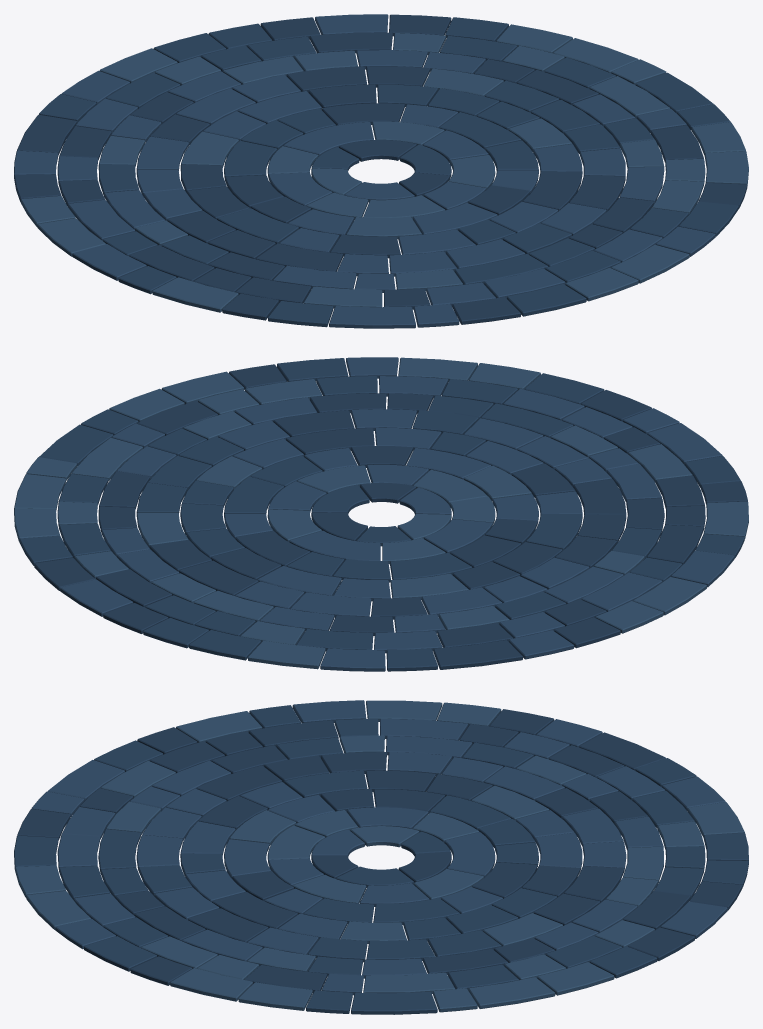
File: FB_Floor.glb
The picture shows the model from 3 angles, top to bottom: view 1: azimuth 30°, elevation 25°; view 2: azimuth 150°, elevation 25°; view 3: azimuth 270°, elevation 25°; orthographic projection.
Visible parts, largest first — view 1: Tile_7_22, Tile_7_19, Tile_1_1, Tile_3_15, Tile_6_29, Tile_7_12, Tile_7_27, Tile_7_34, Tile_6_13, Tile_7_25, Tile_2_0, Tile_6_15 (+148 smaller); view 2: Tile_7_12, Tile_1_1, Tile_3_15, Tile_7_22, Tile_6_29, Tile_7_9, Tile_7_34, Tile_6_13, Tile_2_0, Tile_6_15, Tile_5_18, Tile_7_16 (+148 smaller); view 3: Tile_7_34, Tile_7_1, Tile_1_1, Tile_7_31, Tile_3_15, Tile_6_29, Tile_7_12, Tile_7_22, Tile_6_13, Tile_6_15, Tile_4_12, Tile_2_0 (+148 smaller).
Part boxes in pixels (left/top/right/bottom): Tile_7_22: left=329, top=306, right=415, bottom=328; Tile_7_19: left=152, top=277, right=238, bottom=312; Tile_1_1: left=283, top=122, right=373, bottom=156; Tile_3_15: left=522, top=171, right=582, bottom=211; Tile_6_29: left=589, top=76, right=670, bottom=118; Tile_7_12: left=17, top=114, right=76, bottom=155; Tile_7_27: left=611, top=245, right=689, bottom=283; Tile_7_34: left=635, top=72, right=713, bottom=113; Tile_6_13: left=68, top=200, right=135, bottom=240; Tile_7_25: left=507, top=284, right=586, bottom=316; Tile_2_0: left=439, top=112, right=521, bottom=149; Tile_6_15: left=129, top=245, right=214, bottom=281; Tile_7_12: left=433, top=640, right=522, bottom=669; Tile_1_1: left=289, top=530, right=380, bottom=560; Tile_3_15: left=286, top=428, right=374, bottom=455; Tile_7_22: left=647, top=423, right=722, bottom=464; Tile_6_29: left=71, top=438, right=142, bottom=481; Tile_7_9: left=248, top=640, right=325, bottom=669; Tile_7_34: left=39, top=424, right=113, bottom=466; Tile_6_13: left=581, top=572, right=662, bottom=611; Tile_2_0: left=224, top=476, right=284, bottom=513; Tile_6_15: left=647, top=525, right=703, bottom=564; Tile_5_18: left=481, top=403, right=573, bottom=437; Tile_7_16: left=633, top=577, right=706, bottom=615; Tile_7_34: left=351, top=992, right=437, bottom=1014; Tile_7_1: left=468, top=977, right=555, bottom=1008; Tile_1_1: left=444, top=832, right=495, bottom=877; Tile_7_31: left=170, top=968, right=252, bottom=1001; Tile_3_15: left=212, top=892, right=297, bottom=928; Tile_6_29: left=363, top=972, right=454, bottom=993; Tile_7_12: left=579, top=732, right=665, bottom=770; Tile_7_22: left=47, top=760, right=124, bottom=800; Tile_6_13: left=380, top=718, right=467, bottom=740; Tile_6_15: left=248, top=720, right=338, bottom=747; Tile_4_12: left=196, top=765, right=282, bottom=801; Tile_2_0: left=373, top=898, right=459, bottom=924.
Size of the model in its own units: 26.92 by 0.2036 by 26.93.
